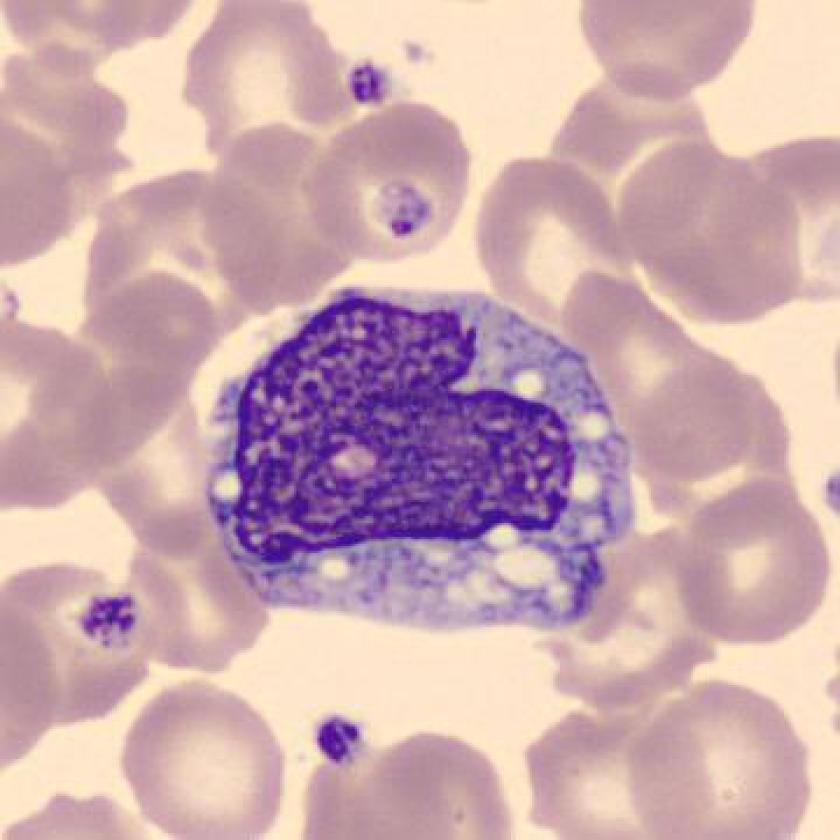monocyte: (188, 263, 657, 658)
